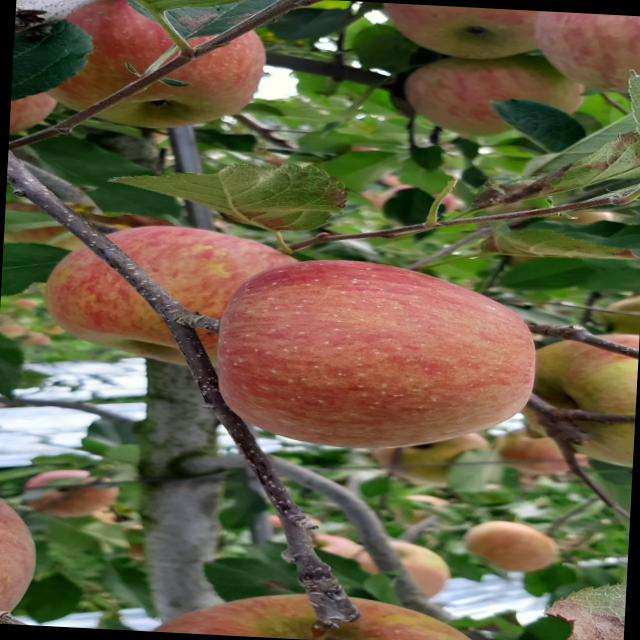fresh: (188, 247, 554, 467)
